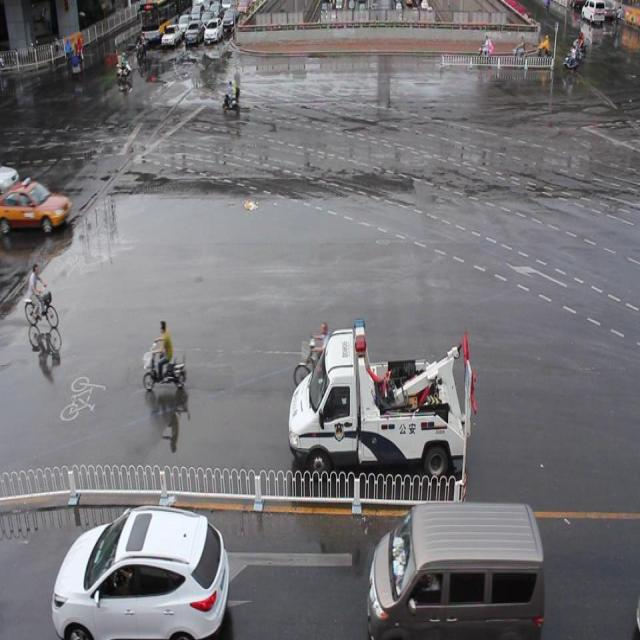bus: (289, 308, 475, 475)
car: (51, 502, 229, 640), (1, 178, 71, 234)
truck: (366, 501, 544, 640)
